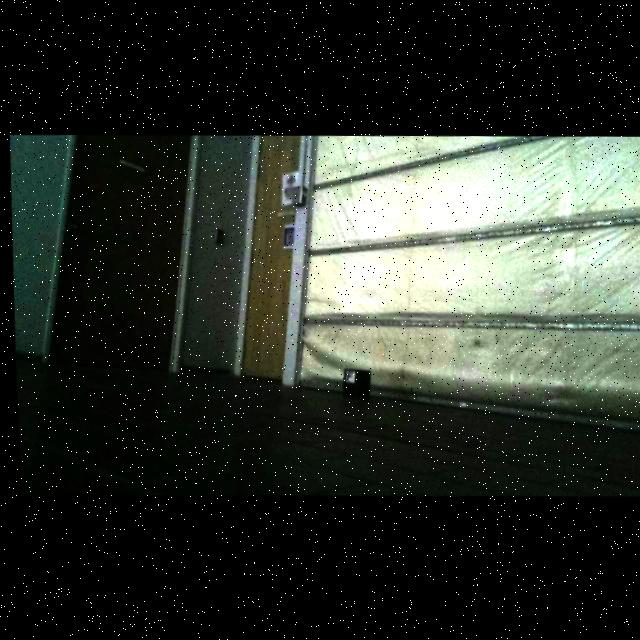F: (343, 372, 348, 381)
